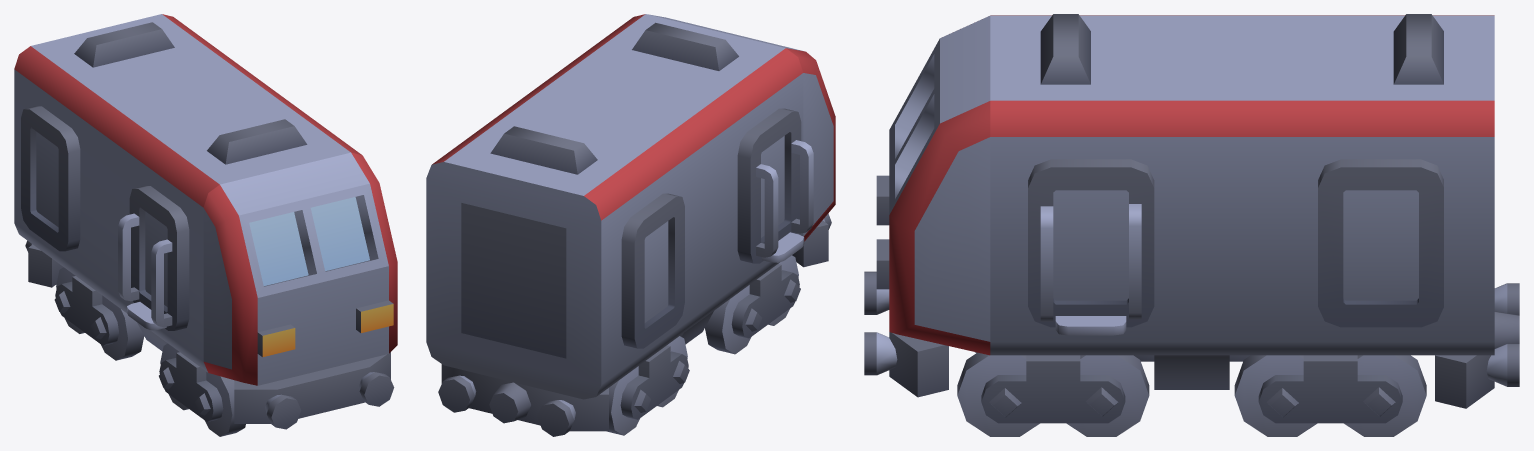
File: train-electric-subway-a.glb
3 views of the same model, side by side, from view 1: azimuth 30°, elevation 25°; view 2: azimuth 150°, elevation 25°; view 3: azimuth 270°, elevation 25° (orthographic). The views are drawn at different scales.
Parts seen in each view (by area): view 1: train-electric-subway-a, wheels-back, wheels-front; view 2: train-electric-subway-a, wheels-front, wheels-back; view 3: train-electric-subway-a, wheels-front, wheels-back.
Part boxes in pixels (x1=…): train-electric-subway-a: x1=14, y1=14, x2=397, y2=429; wheels-back: x1=54, y1=267, x2=144, y2=360; wheels-front: x1=159, y1=343, x2=245, y2=436; train-electric-subway-a: x1=426, y1=14, x2=835, y2=436; wheels-front: x1=705, y1=255, x2=800, y2=354; wheels-back: x1=607, y1=336, x2=689, y2=435; train-electric-subway-a: x1=864, y1=14, x2=1519, y2=408; wheels-front: x1=957, y1=352, x2=1149, y2=436; wheels-back: x1=1234, y1=355, x2=1426, y2=436.
Bounding box in the file's own units: 1.35 × 1.57 × 2.6.
